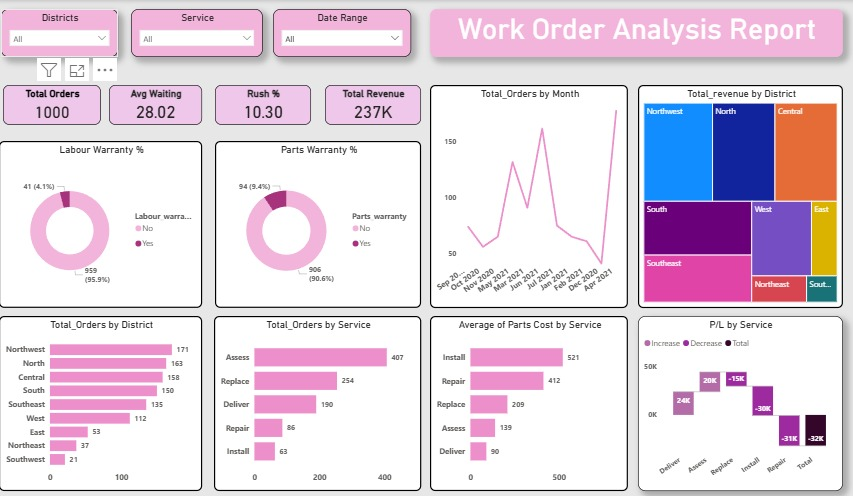

The page's visual inventory and layout, read from the dashboard file:
{"tool":"powerbi","page":{"name":"Page 1","canvas":[1486,854],"ordinal":0},"visuals":[{"type":"card","title":"Total Orders","fields":{"Values":["work_orders.Total_Orders"]},"box":[13.7,145.2,167.4,68.3],"z":0},{"type":"card","title":"Avg Waiting","fields":{"Values":["work_orders.Average_wait"]},"box":[194.7,145.2,158.8,68.3],"z":1000},{"type":"card","title":"Rush %","fields":{"Values":["work_orders.Rush%"]},"box":[375.8,145.2,164,68.3],"z":2000},{"type":"card","title":"Total Revenue","fields":{"Values":["work_orders.Total_revenue"]},"box":[563.6,145.2,164,68.3],"z":3000},{"type":"clusteredBarChart","fields":{"Category":["work_orders.Service"],"Y":["work_orders.Total_Orders"]},"box":[374.1,539.7,353.6,298.9],"z":4000},{"type":"clusteredBarChart","fields":{"Y":["work_orders.Total_Orders"],"Category":["work_orders.District"]},"box":[6.8,539.7,346.7,298.9],"z":5000},{"type":"treemap","fields":{"Group":["work_orders.District"],"Values":["work_orders.Total_revenue"]},"box":[1098.2,145.2,350.1,380.9],"z":6000},{"type":"waterfallChart","title":"P/L by Service","fields":{"Category":["work_orders.Service"],"Y":["Sum(work_orders.P/L)"]},"box":[1098.2,539.7,350.1,298.9],"z":7000},{"type":"textbox","title":"Work Order Analysis Report","box":[743,15.4,705.4,82],"z":8000},{"type":"lineChart","fields":{"Category":["work_orders.Month"],"Y":["work_orders.Total_Orders"]},"box":[743,145.2,338.2,380.9],"z":9000},{"type":"donutChart","title":"Labour Warranty %","fields":{"Y":["work_orders.Total_Orders"],"Category":["work_orders.Labour_warranty"]},"box":[6.8,240.8,346.7,285.2],"z":10000},{"type":"donutChart","title":"Parts Warranty %","fields":{"Y":["work_orders.Total_Orders"],"Category":["work_orders.Parts_warranty"]},"box":[375.8,240.8,351.8,285.2],"z":11000},{"type":"slicer","title":"Districts","fields":{"Values":["work_orders.District"]},"box":[10.2,15.4,199.8,82],"z":12000},{"type":"slicer","title":"Service","fields":{"Values":["work_orders.Service"]},"box":[232.3,15.4,225.5,82],"z":13000},{"type":"clusteredBarChart","fields":{"Category":["work_orders.Service"],"Y":["Avg(work_orders.Parts Cost)"]},"box":[743,539.7,338.2,298.9],"z":14000},{"type":"slicer","title":"Date Range","fields":{"Values":["work_orders.Request Date"]},"box":[474.8,15.4,235.7,82],"z":15000}]}

Visuals, with their boxes in screenshot pixels (x1, y1, x2, y2), scaled from the page's 1486x854 canvas onto the 853x496 screenshot:
"Total Orders" card: x1=8, y1=84, x2=104, y2=124
"Avg Waiting" card: x1=112, y1=84, x2=203, y2=124
"Rush %" card: x1=216, y1=84, x2=310, y2=124
"Total Revenue" card: x1=324, y1=84, x2=418, y2=124
clusteredBarChart - work_orders.Service x work_orders.Total_Orders: x1=215, y1=313, x2=418, y2=487
clusteredBarChart - work_orders.Total_Orders x work_orders.District: x1=4, y1=313, x2=203, y2=487
treemap - work_orders.District x work_orders.Total_revenue: x1=630, y1=84, x2=831, y2=306
"P/L by Service" waterfallChart: x1=630, y1=313, x2=831, y2=487
"Work Order Analysis Report" textbox: x1=426, y1=9, x2=831, y2=57
lineChart - work_orders.Month x work_orders.Total_Orders: x1=426, y1=84, x2=621, y2=306
"Labour Warranty %" donutChart: x1=4, y1=140, x2=203, y2=305
"Parts Warranty %" donutChart: x1=216, y1=140, x2=418, y2=305
"Districts" slicer: x1=6, y1=9, x2=121, y2=57
"Service" slicer: x1=133, y1=9, x2=263, y2=57
clusteredBarChart - work_orders.Service x Avg(work_orders.Parts Cost): x1=426, y1=313, x2=621, y2=487
"Date Range" slicer: x1=273, y1=9, x2=408, y2=57
